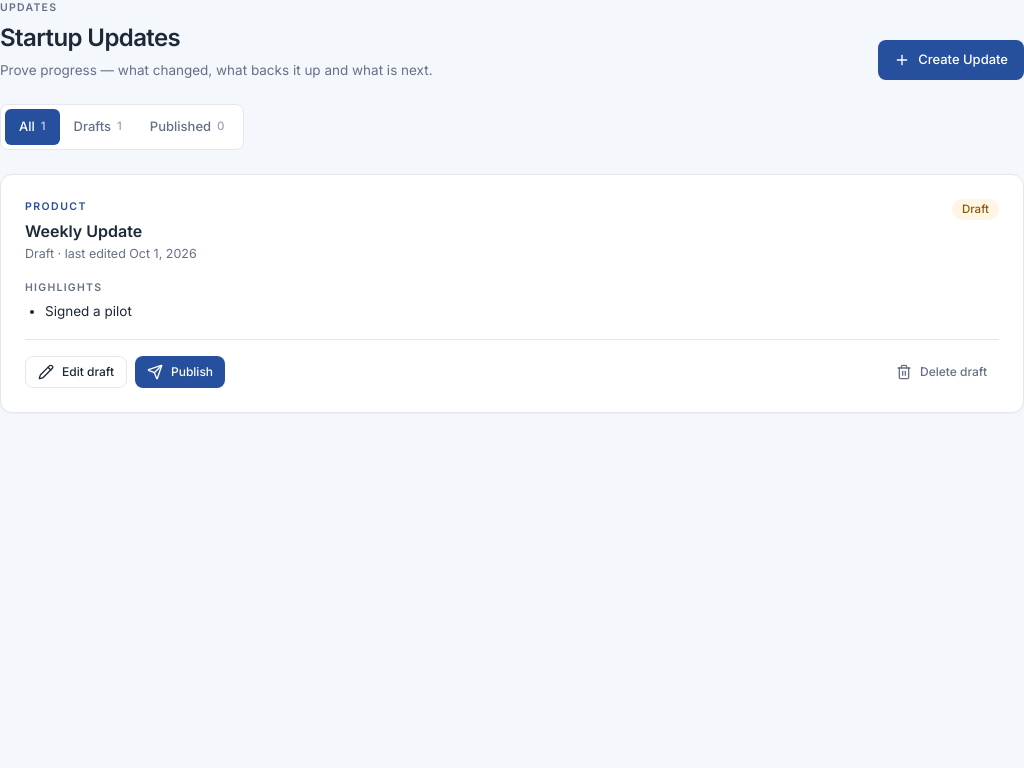
Test case: UpdatesPage › opens the editor instead of publishing a draft without "What moved?"
Click the button "Publish" at [180, 372], box [135,356,225,388]
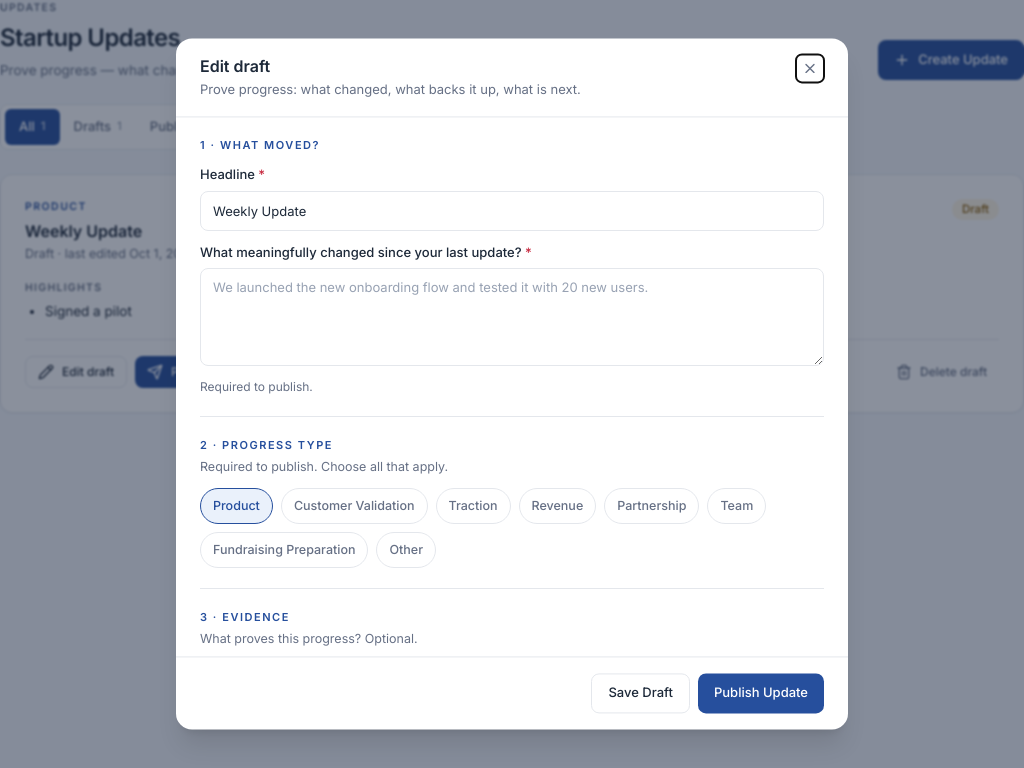
Now the dialog "Edit draft" is shown, box [176,38,848,730]
